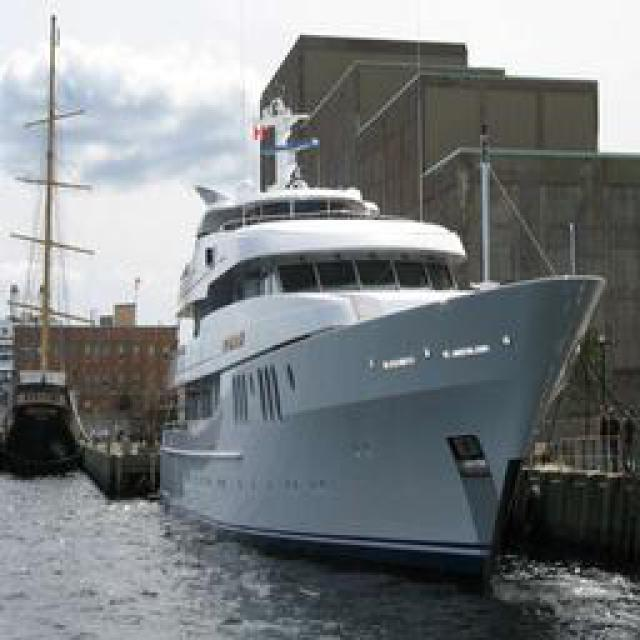Ship: (161, 88, 611, 586)
